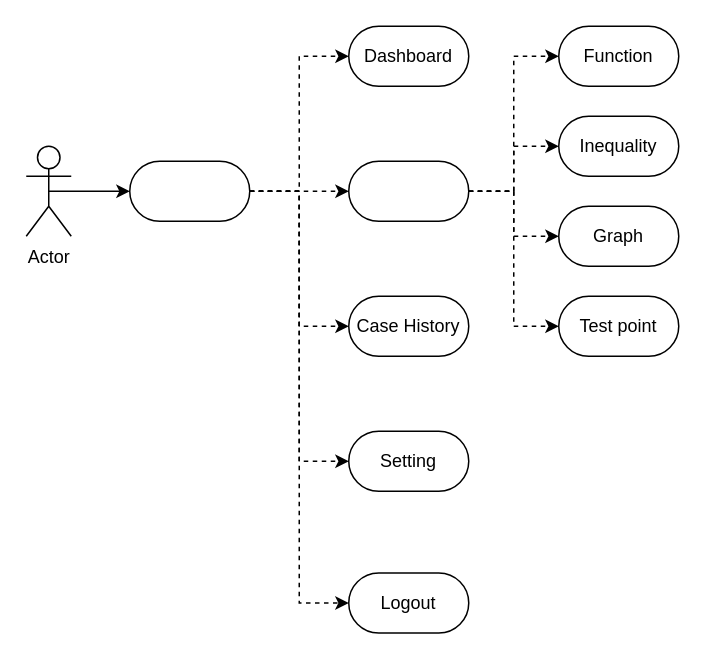
Some shapes in this 705 by 660 pixel diagram are drawn without their labels. Here are the shapes that lost their labels. From the top down, the centre of each, then its label:
At [189,190]: "Login".
At [408,190]: "Case Model".
